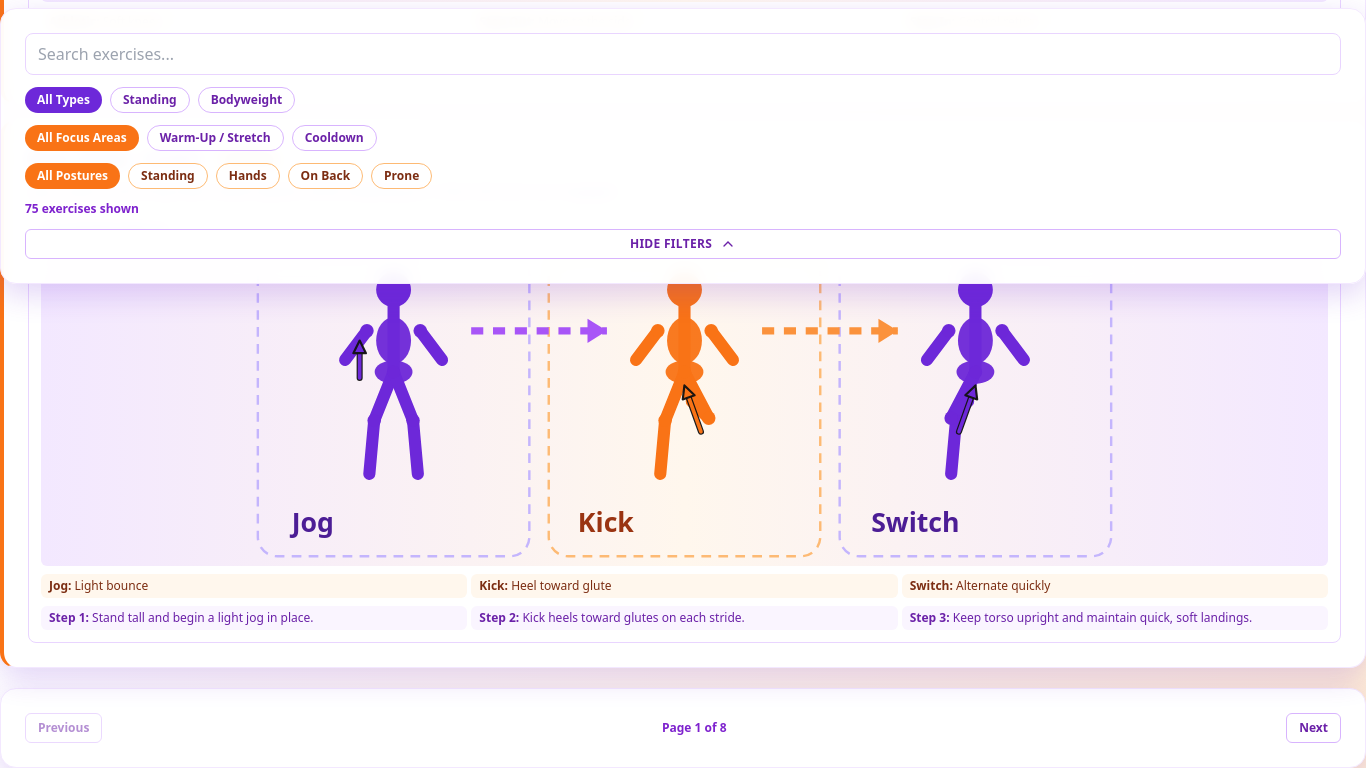
it: ExerciseList page › paginates exercises with 10 items per page
(page scrolled)
Expected: the text "Page 1 of 8" is shown, [662,720,727,736]
Click the button "Next" at (1314, 728), box [1286,713,1341,743]
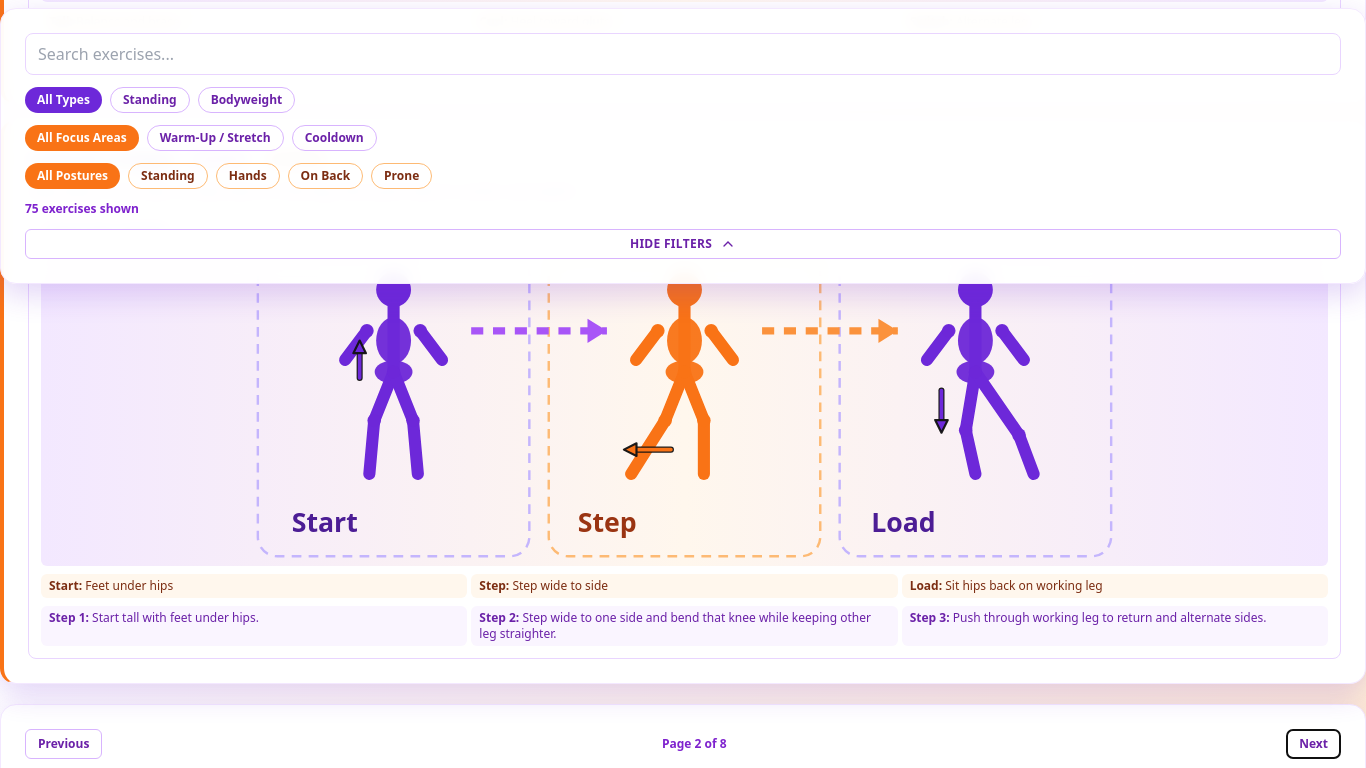
Result: the text "Page 2 of 8" is shown at [662,736,727,752]
